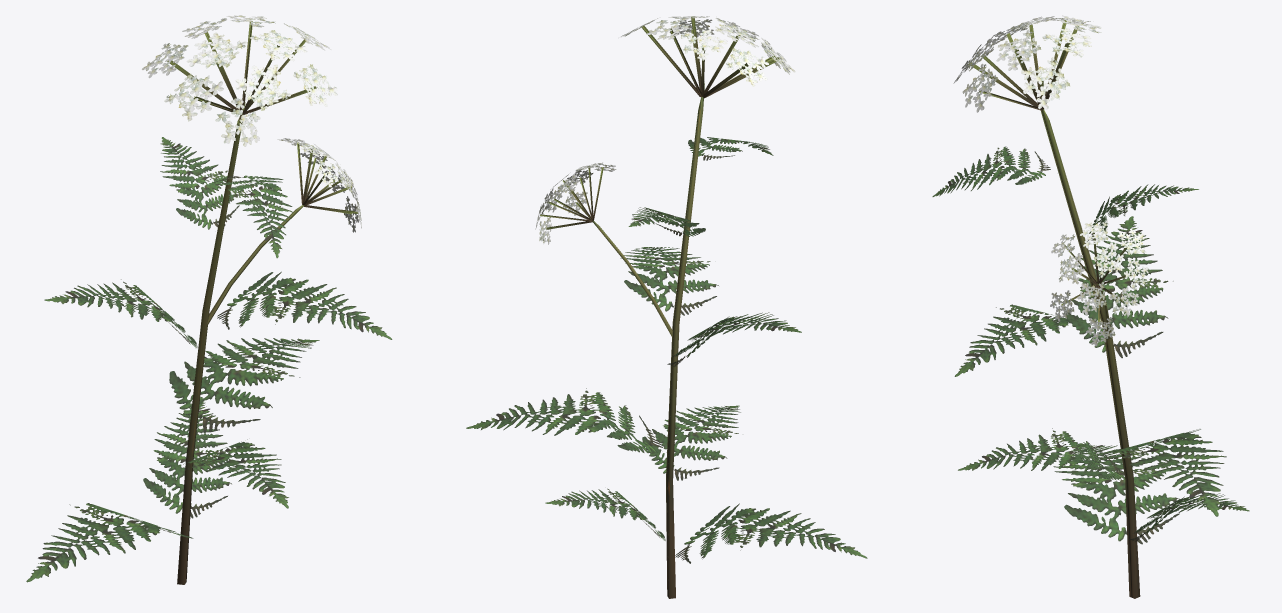
Rendered from zont2.FBX.
3 renders of one model, left to right at view 1: azimuth 30°, elevation 25°; view 2: azimuth 150°, elevation 25°; view 3: azimuth 270°, elevation 25°, orthographic. The views are drawn at different scales.
Parts seen in each view (by area): view 1: zont2; view 2: zont2; view 3: zont2.
Boxes of the visible parts, left/top/right/bottom form: zont2: left=26, top=15, right=392, bottom=584; zont2: left=466, top=16, right=867, bottom=598; zont2: left=932, top=15, right=1249, bottom=598.
Size of the model in its own units: 7.94 by 11.12 by 6.06.
